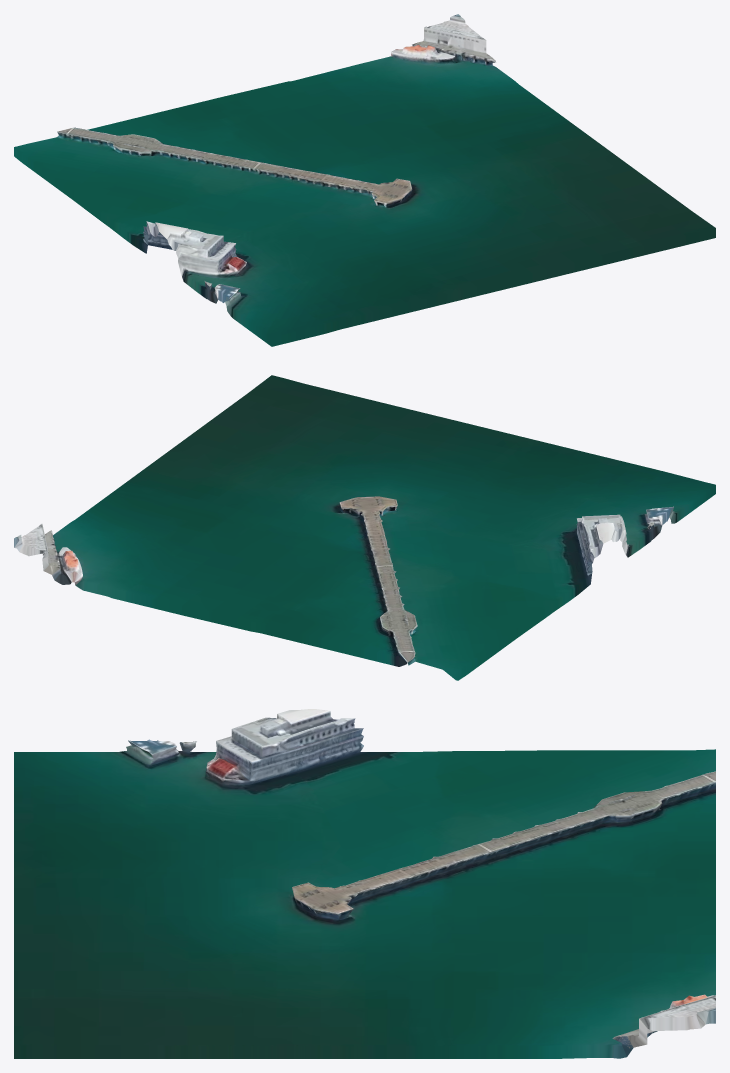
File: z17-20973-50650-h0-yup-uvflip-v3-world.glb
3 views of the same model, one above another, from view 1: azimuth 30°, elevation 25°; view 2: azimuth 150°, elevation 25°; view 3: azimuth 270°, elevation 25° (orthographic). The views are drawn at different scales.
Bounding box in the file's own units: 241 × 21.12 × 243.
1 material, 1 textured.
